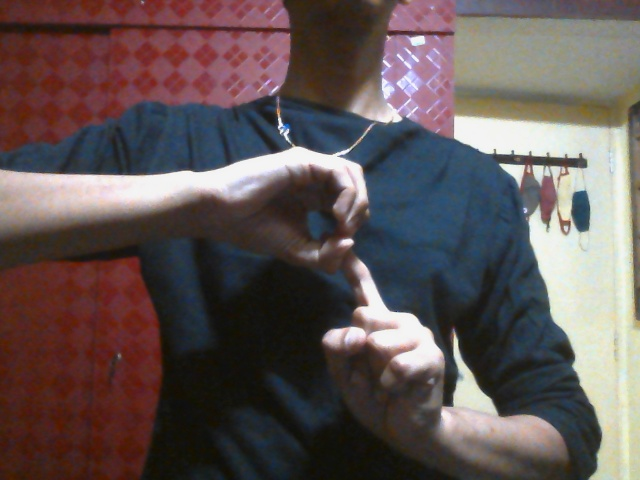Q: (212, 147, 445, 460)
